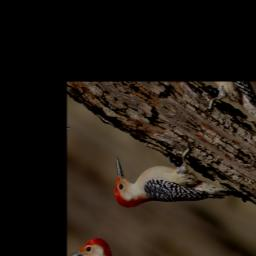Woodpecker: (97, 111, 251, 256)
